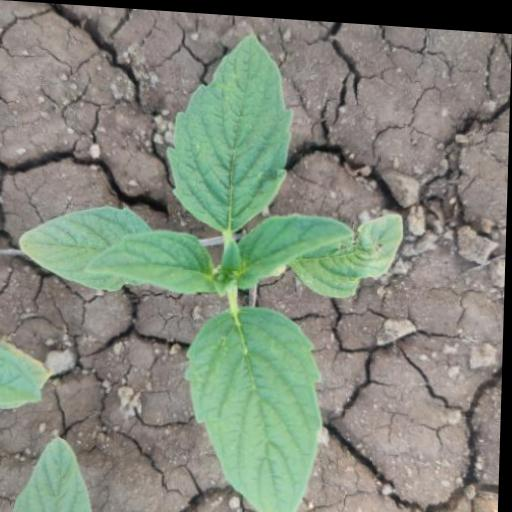crop: (10, 10, 416, 512)
